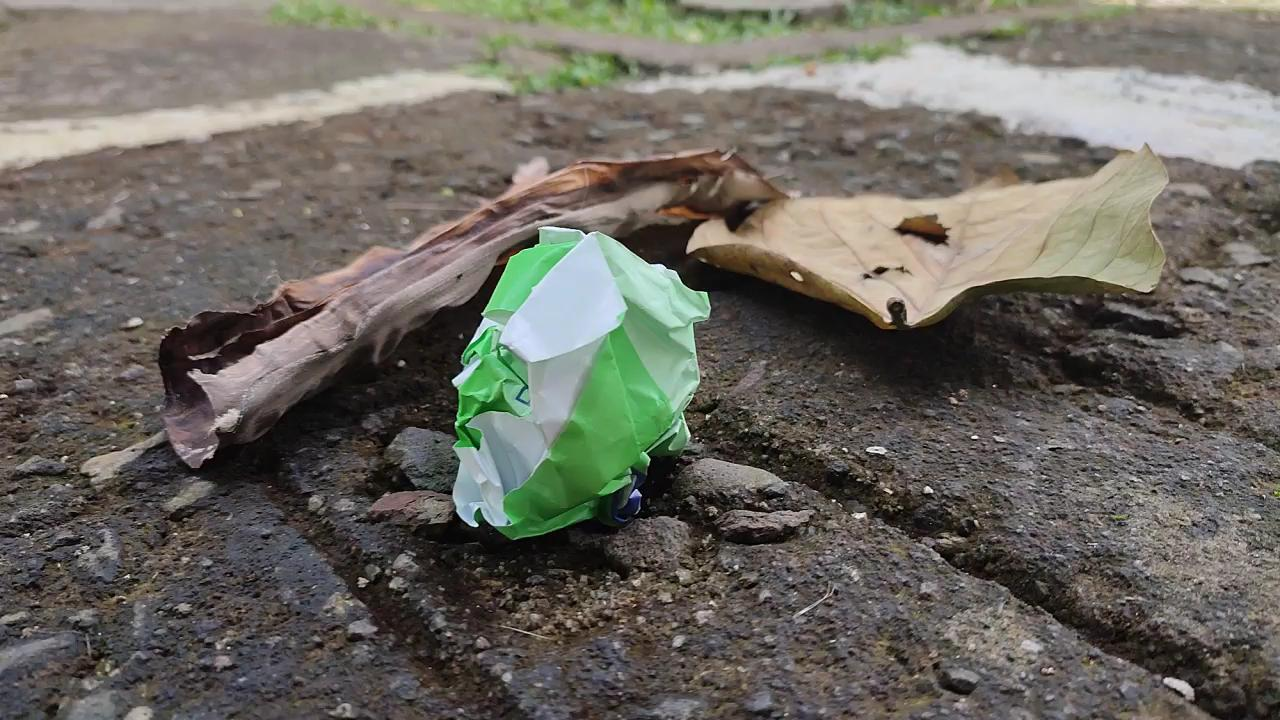Paper: (437, 218, 709, 559)
